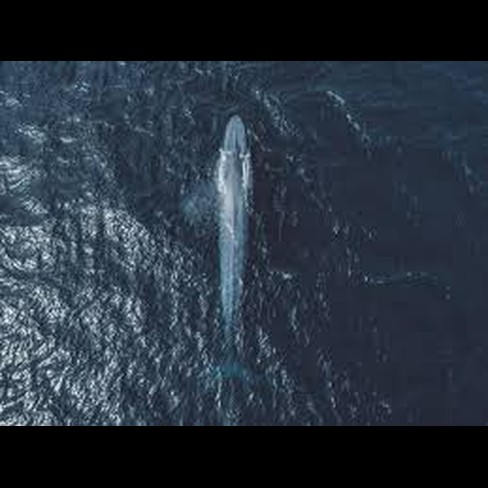bluewhale: (201, 112, 265, 392)
